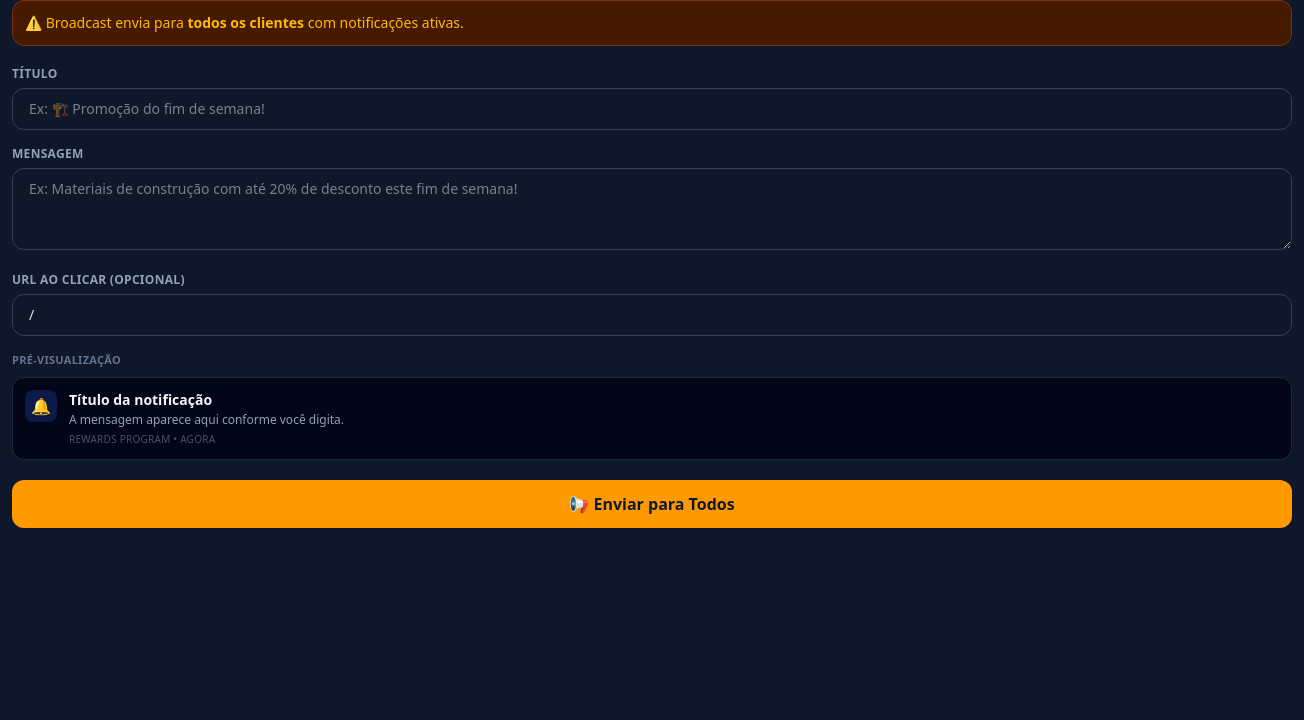
Test case: BroadcastTab › mostra erro ao enviar sem título nem mensagem
The width and height of the screenshot is (1304, 720).
What coordinates should you click on to do the following:
click the button "📢 Enviar para Todos"
I would click on:
 (652, 504)
Its box is [12,480,1292,528].
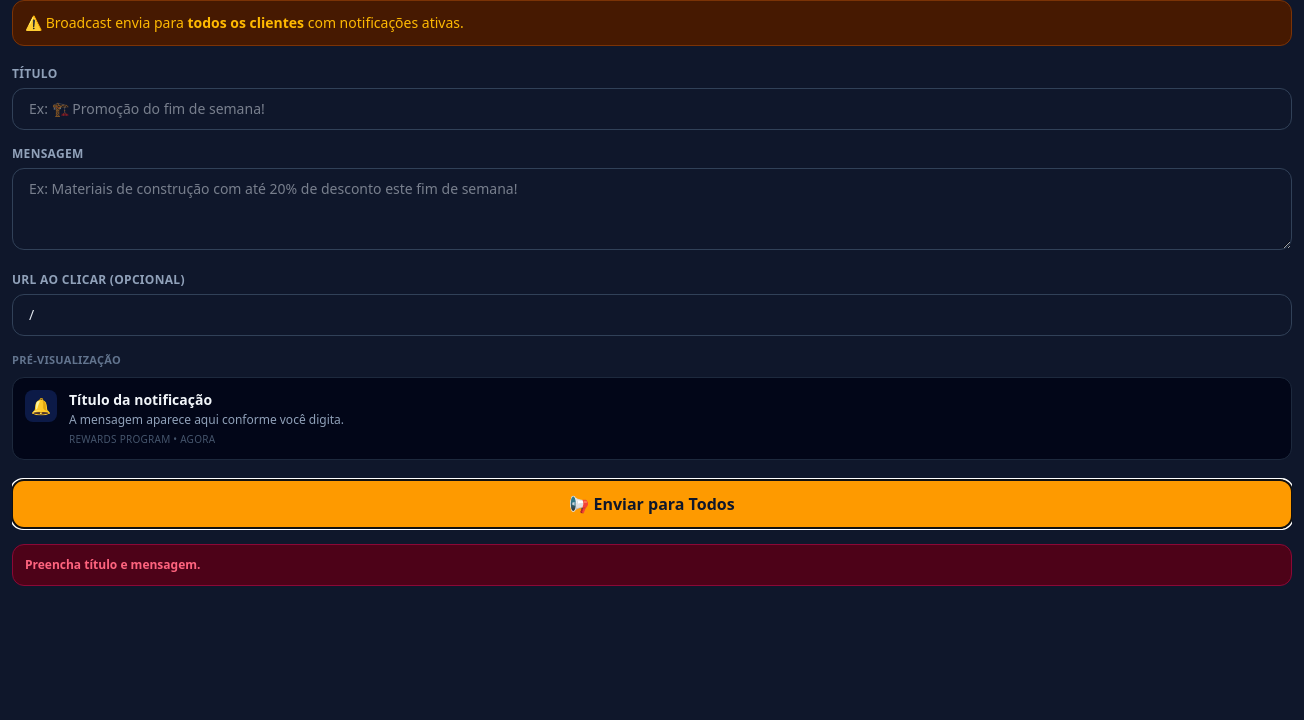
Check: the text "Preencha título e mensagem." is shown, box [12,544,1292,586]
